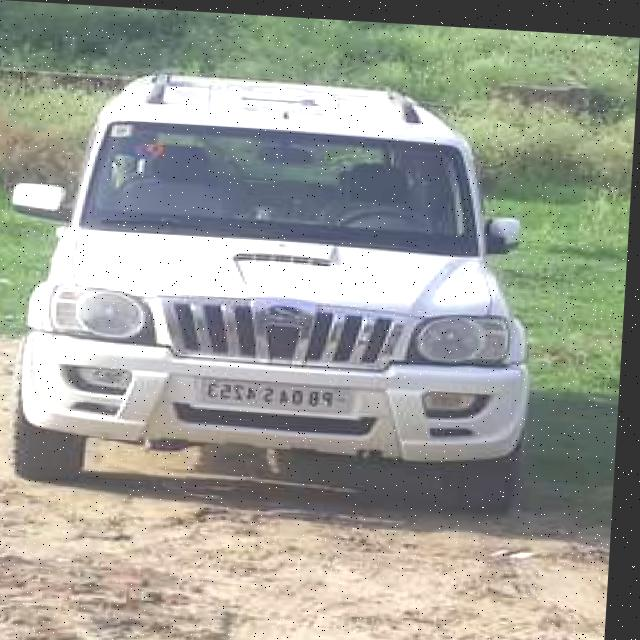plate: (202, 374, 360, 412)
